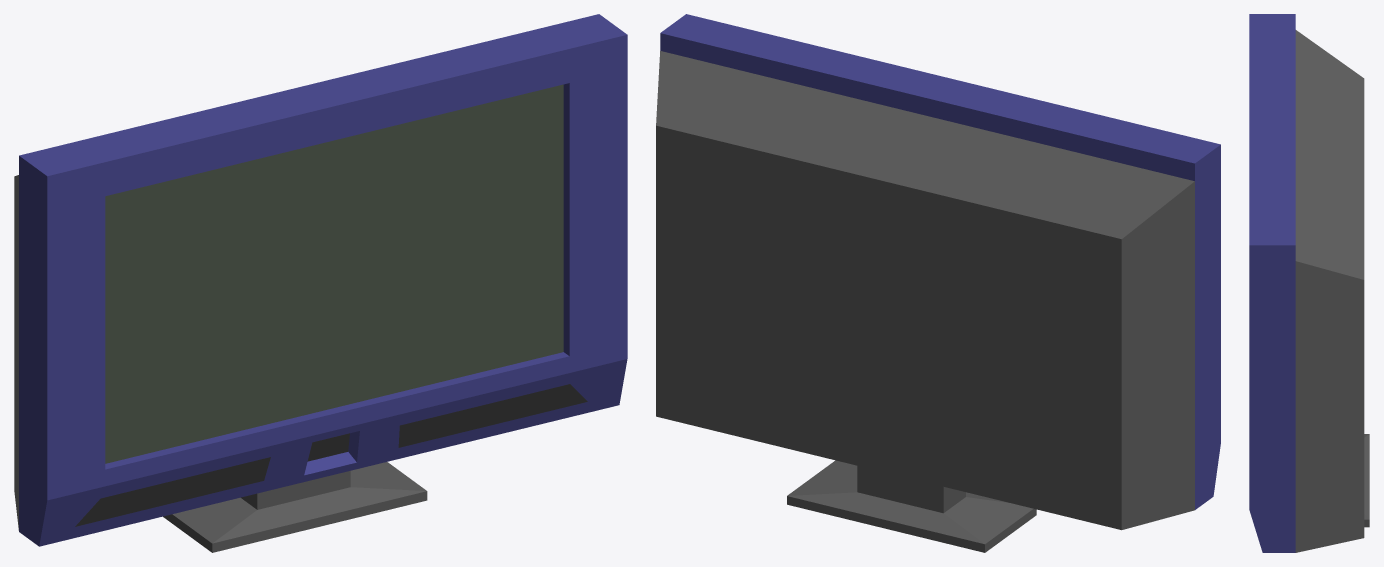
Rendered from TelevisionSet17.fbx.
The picture shows the model from 3 angles, left to right: view 1: azimuth 30°, elevation 25°; view 2: azimuth 150°, elevation 25°; view 3: azimuth 270°, elevation 25°; orthographic projection. The views are drawn at different scales.
Visible parts, largest first — view 1: Cube.001; view 2: Cube.001; view 3: Cube.001.
Boxes of the visible parts, bbox=[...] form: Cube.001: bbox=[14, 14, 627, 552]; Cube.001: bbox=[656, 14, 1220, 552]; Cube.001: bbox=[1249, 14, 1369, 552].
Bounding box in the file's own units: 1.6 × 1.14 × 0.3507.
